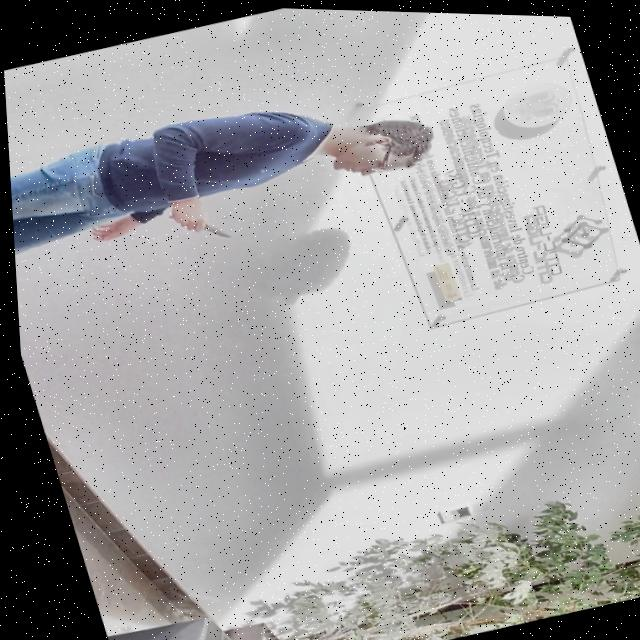knife: (198, 217, 228, 242)
